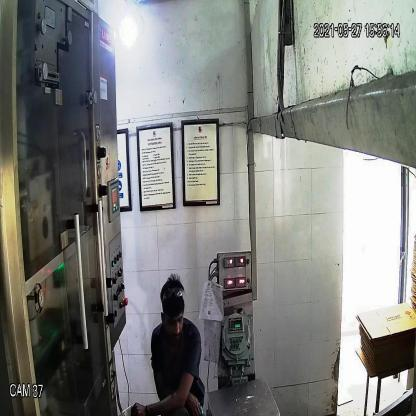no_goggles: (161, 310, 185, 332)
